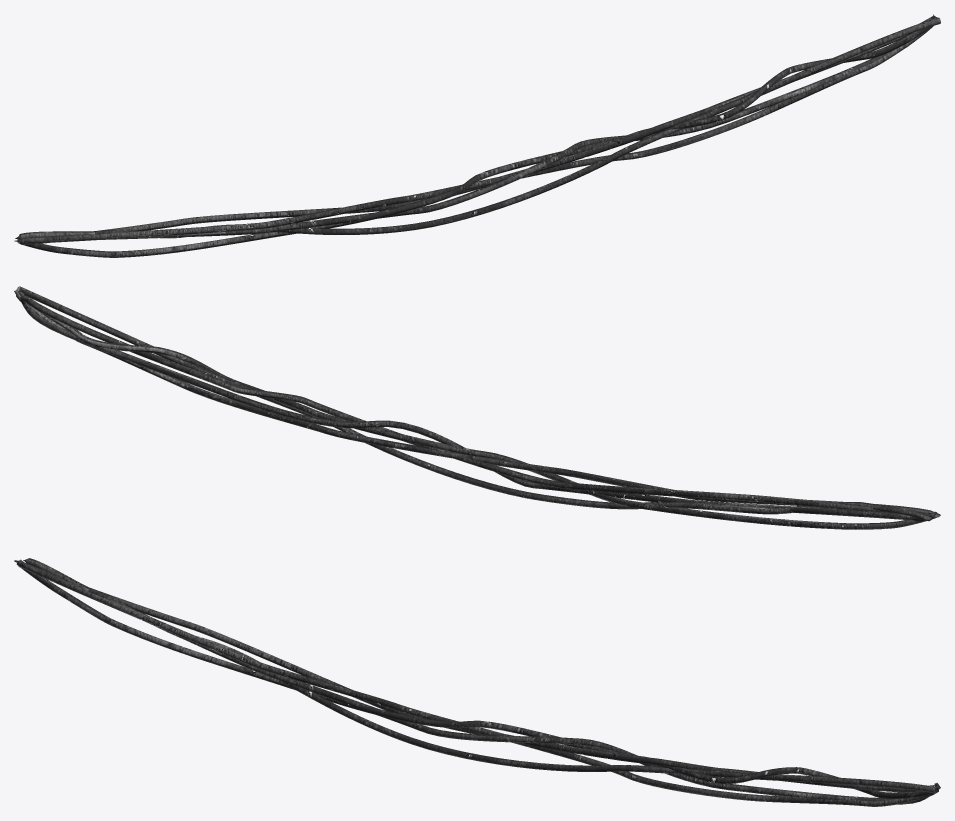
The model's file is Cable4.fbx.
3 renders of one model, top to bottom at view 1: azimuth 30°, elevation 25°; view 2: azimuth 150°, elevation 25°; view 3: azimuth 330°, elevation 25°, orthographic.
Parts seen in each view (by area): view 1: Wire.002; view 2: Wire.002; view 3: Wire.002.
Part boxes in pixels (box(x1,y1,x2,y2)): Wire.002: box(14, 14, 940, 257); Wire.002: box(14, 286, 940, 529); Wire.002: box(14, 558, 940, 806).
Size of the model in its own units: 5966 by 545 by 180.
Materials: 1 (1 with a texture image).
